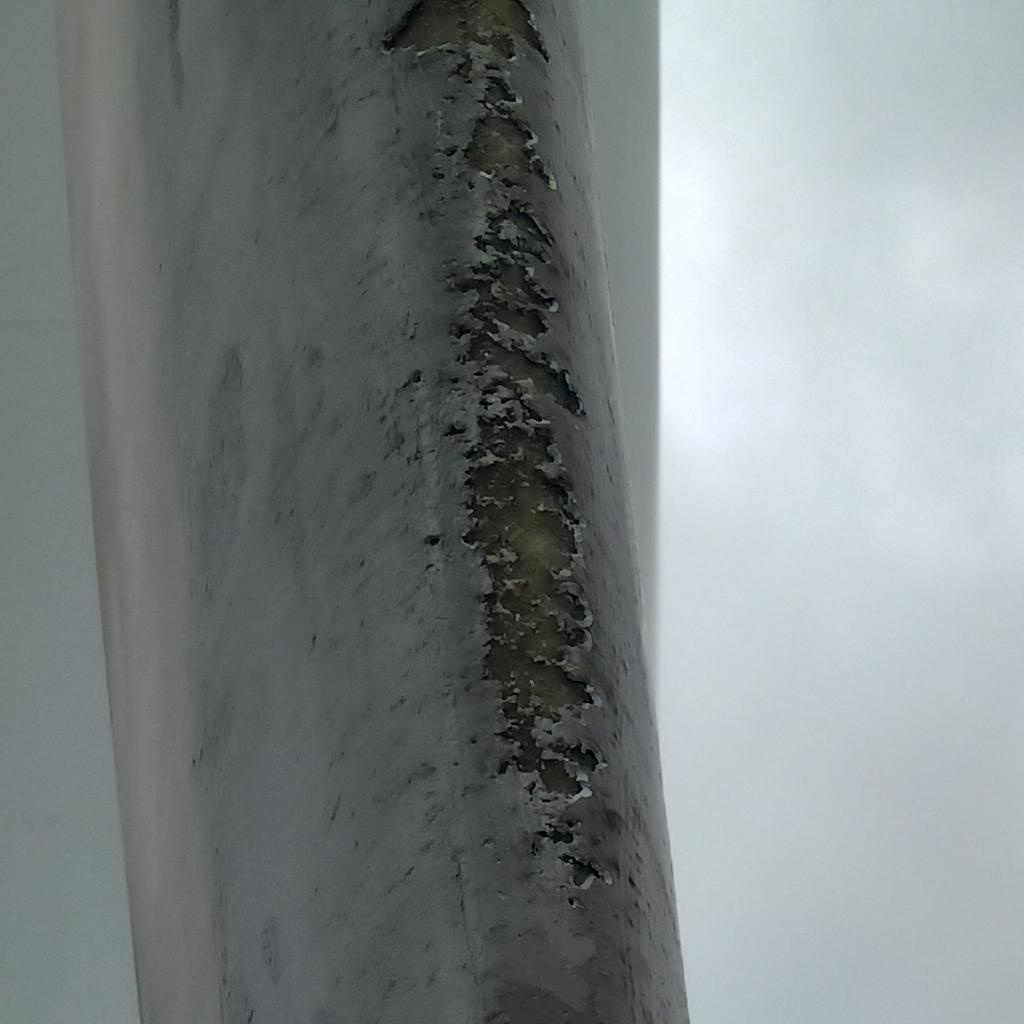corrosion: (378, 6, 619, 889)
